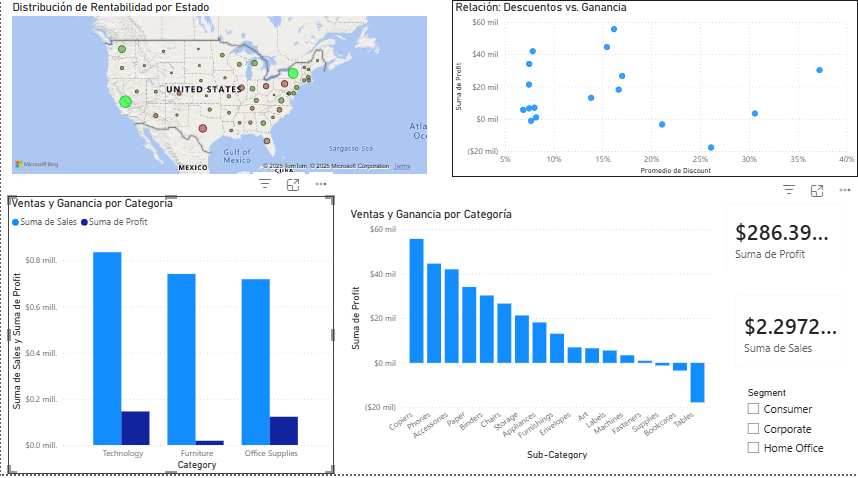

The page's visual inventory and layout, read from the dashboard file:
{"tool":"powerbi","page":{"name":"Página 1","canvas":[1280,720],"ordinal":0},"visuals":[{"type":"cardVisual","fields":{"Data":["Sum(SampleSuperstore.Sales)"]},"box":[0,0,211.6,143.9],"z":0},{"type":"cardVisual","fields":{"Data":["Sum(SampleSuperstore.Profit)"]},"box":[0,143.9,243.8,120.2],"z":1000},{"type":"clusteredColumnChart","fields":{"Category":["SampleSuperstore.Category"],"Y":["Sum(SampleSuperstore.Sales)","Sum(SampleSuperstore.Profit)"]},"box":[10.2,264.1,555.3,455.4],"z":2000},{"type":"clusteredColumnChart","fields":{"Category":["SampleSuperstore.Sub-Category"],"Y":["Sum(SampleSuperstore.Profit)"]},"box":[724.7,264.1,555.3,455.4],"z":3000},{"type":"map","fields":{"Category":["SampleSuperstore.State"],"Size":["Sum(SampleSuperstore.Sales)"],"Series":["SampleSuperstore.Profit"]},"box":[369.1,25.4,633.2,194.7],"z":4000}]}

Visuals, with their boxes in screenshot pixels (x1, y1, x2, y2), scaled from the page's 1280x720 canvas onto the 858x478 screenshot:
cardVisual - Sum(SampleSuperstore.Sales): 0:0:142:96
cardVisual - Sum(SampleSuperstore.Profit): 0:96:163:175
clusteredColumnChart - SampleSuperstore.Category x Sum(SampleSuperstore.Sales): 7:175:379:477
clusteredColumnChart - SampleSuperstore.Sub-Category x Sum(SampleSuperstore.Profit): 486:175:857:477
map - SampleSuperstore.State x Sum(SampleSuperstore.Sales): 247:17:672:146
